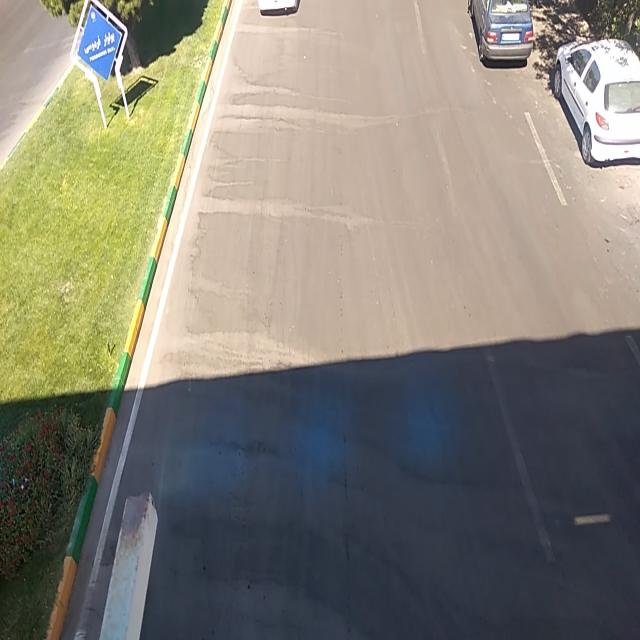car: (553, 28, 637, 170), (467, 1, 537, 61)
